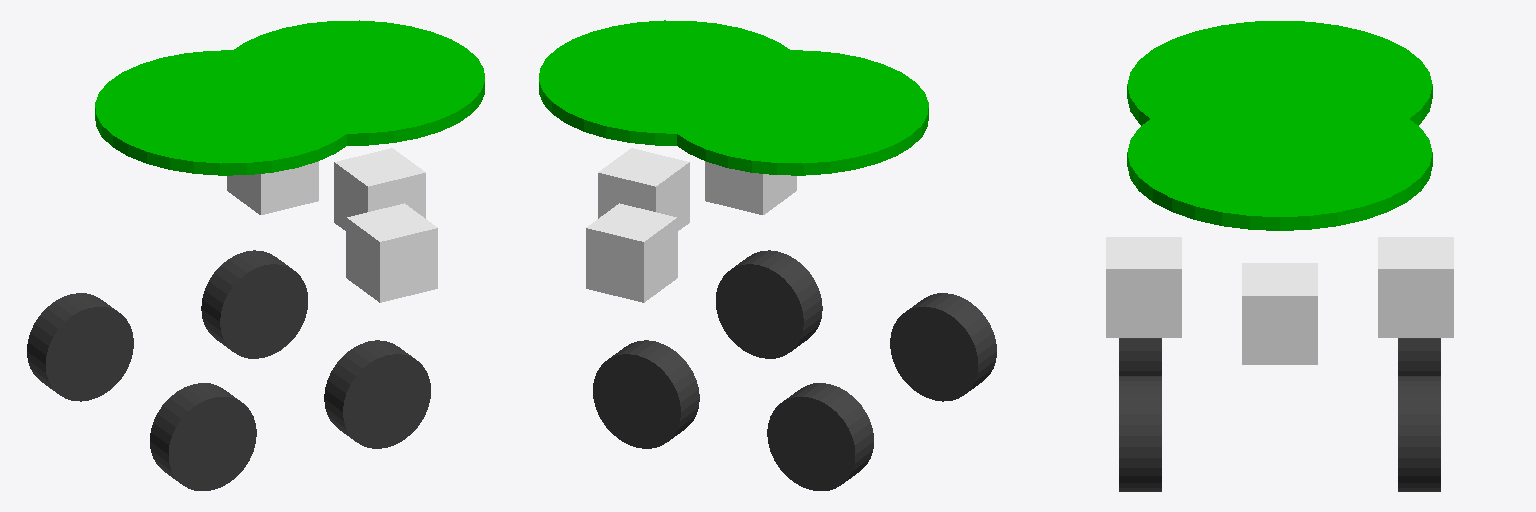
The robot description file, URDF, robot "multigo":
<?xml version="1.0" ?>
<robot name="multigo" xmlns:xacro="http://ros.org/wiki/xacro">

  <!-- Init colour -->
  <material name="black">
      <color rgba="0.0 0.0 0.0 1.0"/>
  </material>

  <material name="dark">
    <color rgba="0.3 0.3 0.3 1.0"/>
  </material>

  <material name="light_black">
    <color rgba="0.4 0.4 0.4 1.0"/>
  </material>

  <material name="blue">
    <color rgba="0.0 0.0 0.8 1.0"/>
  </material>

  <material name="green">
    <color rgba="0.0 0.8 0.0 1.0"/>
  </material>

  <material name="grey">
    <color rgba="0.5 0.5 0.5 1.0"/>
  </material>

  <material name="orange">
    <color rgba="1.0 0.4235 0.0392 1.0"/>
  </material>

  <material name="brown">
    <color rgba="0.8706 0.8118 0.7647 1.0"/>
  </material>

  <material name="red">
    <color rgba="0.8 0.0 0.0 1.0"/>
  </material>

  <material name="white">
    <color rgba="1.0 1.0 1.0 1.0"/>
  </material>

  <!-- Base Footprint -->
  <link name="base_footprint"/>

  <joint name="base_joint" type="fixed">
    <parent link="base_footprint"/>
    <child link="base_link" />
    <origin xyz="0 0 0.010" rpy="0 0 0"/>
  </joint>

  <!-- Base Link -->
  <link name="base_link">
    <inertial>
      <pose>0.000602 0 0.476823 0 -0 0</pose>
      <mass>50.435</mass>
      <inertia>
        <ixx>3.02781</ixx>
        <ixy>0</ixy>
        <ixz>-0.012125</ixz>
        <iyy>3.43197</iyy>
        <iyz>0</iyz>
        <izz>0.968001</izz>
      </inertia>
    </inertial>

    <collision name="base_collision">
      <pose>0.15 0 0.002 -0.0 -0.0 1.57</pose>
      <geometry>
        <mesh>
          <uri>model://multigo/meshes/multigo.stl</uri>
          <scale>0.001 0.001 0.001</scale>
        </mesh>
      </geometry>
    </collision>

    <visual name="base_visual">
      <pose>0.15 0 0.002 -0.0 -0.0 1.57</pose>
      <geometry>
        <mesh>
          <uri>model://multigo/meshes/multigo.stl</uri>
          <scale>0.001 0.001 0.001</scale>
        </mesh>
      </geometry>
      <material>
        <ambient>0.8392 0.6314 0 1</ambient>
        <diffuse>0.8392 0.6314 0 1</diffuse>
        <specular>0.99 0.99 0.99 1</specular>
        <emissive>0 0 0 0</emissive>
      </material>
    </visual>
  </link>

  <!-- Odometry Link -->
  <link name="odom"/>

  <!-- Fixed Joint from odom to base_footprint -->
  <joint name="odom_to_base" type="fixed">
    <parent link="odom"/>
    <child link="base_footprint"/>
    <origin xyz="0 0 0" rpy="0 0 0"/>
  </joint>


  <!-- Front Left Wheel -->
  <joint name="front_left_wheel_joint" type="revolute">
    <parent link="base_link"/>
    <child link="front_left_wheel_link"/>
    <origin xyz="0.15 0.183 0.076" rpy="0 0 0"/>
    <axis xyz="0 1 0"/>
    <limit lower="-1e+16" upper="1e+16" effort="100" velocity="100"/>
    <dynamics damping="0.0" friction="0.0"/>
  </joint>

  <link name="front_left_wheel_link">
    <visual>
      <origin xyz="0 0 0" rpy="1.5708 0 0"/>
      <geometry>
        <cylinder length="0.056" radius="0.076"/>
      </geometry>
      <material name="dark"/>
    </visual>

    <collision>
      <origin xyz="0 0 0" rpy="1.5708 0 0"/>
      <geometry>
        <cylinder length="0.056" radius="0.076"/>
      </geometry>
    </collision>

    <inertial>
      <origin xyz="0 0 0" rpy="0 0 0"/>
      <mass value="0.6"/>
      <inertia ixx="0.00138624" ixy="0" ixz="0" iyy="0.00138624" iyz="0" izz="0.00138624"/>
    </inertial>
  </link>

  <!-- Front Right Wheel -->
  <joint name="front_right_wheel_joint" type="revolute">
    <parent link="base_link"/>
    <child link="front_right_wheel_link"/>
    <origin xyz="0.15 -0.183 0.076" rpy="0 0 0"/>
    <axis xyz="0 1 0"/>
    <limit lower="-1e+16" upper="1e+16" effort="100" velocity="100"/>
    <dynamics damping="0.0" friction="0.0"/>
  </joint>

  <link name="front_right_wheel_link">
    <visual>
      <origin xyz="0 0 0" rpy="1.5708 0 0"/>
      <geometry>
        <cylinder length="0.056" radius="0.076"/>
      </geometry>
      <material name="dark"/>
    </visual>

    <collision>
      <origin xyz="0 0 0" rpy="1.5708 0 0"/>
      <geometry>
        <cylinder length="0.056" radius="0.076"/>
      </geometry>
    </collision>

    <inertial>
      <origin xyz="0 0 0" rpy="0 0 0"/>
      <mass value="0.6"/>
      <inertia ixx="0.00138624" ixy="0" ixz="0" iyy="0.00138624" iyz="0" izz="0.00138624"/>
    </inertial>
  </link>

  <!-- Rear Left Wheel -->
  <joint name="rear_left_wheel_joint" type="revolute">
    <parent link="base_link"/>
    <child link="rear_left_wheel_link"/>
    <origin xyz="-0.15 0.183 0.076" rpy="0 0 0"/>
    <axis xyz="0 1 0"/>
    <limit lower="-1e+16" upper="1e+16" effort="100" velocity="100"/>
    <dynamics damping="0.0" friction="0.0"/>
  </joint>

  <link name="rear_left_wheel_link">
    <visual>
      <origin xyz="0 0 0" rpy="1.5708 0 0"/>
      <geometry>
        <cylinder length="0.056" radius="0.076"/>
      </geometry>
      <material name="dark"/>
    </visual>

    <collision>
      <origin xyz="0 0 0" rpy="1.5708 0 0"/>
      <geometry>
        <cylinder length="0.056" radius="0.076"/>
      </geometry>
    </collision>

    <inertial>
      <origin xyz="0 0 0" rpy="0 0 0"/>
      <mass value="0.6"/>
      <inertia ixx="0.00138624" ixy="0" ixz="0" iyy="0.00138624" iyz="0" izz="0.00138624"/>
    </inertial>
  </link>

  <!-- Rear Right Wheel -->
  <joint name="rear_right_wheel_joint" type="revolute">
    <parent link="base_link"/>
    <child link="rear_right_wheel_link"/>
    <origin xyz="-0.15 -0.183 0.076" rpy="0 0 0"/>
    <axis xyz="0 1 0"/>
    <limit lower="-1e+16" upper="1e+16" effort="100" velocity="100"/>
    <dynamics damping="0.0" friction="0.0"/>
  </joint>

  <link name="rear_right_wheel_link">
    <visual>
      <origin xyz="0 0 0" rpy="1.5708 0 0"/>
      <geometry>
        <cylinder length="0.056" radius="0.076"/>
      </geometry>
      <material name="dark"/>
    </visual>

    <collision>
      <origin xyz="0 0 0" rpy="1.5708 0 0"/>
      <geometry>
        <cylinder length="0.056" radius="0.076"/>
      </geometry>
    </collision>

    <inertial>
      <origin xyz="0 0 0" rpy="0 0 0"/>
      <mass value="0.6"/>
      <inertia ixx="0.00138624" ixy="0" ixz="0" iyy="0.00138624" iyz="0" izz="0.00138624"/>
    </inertial>
  </link>

  <!-- LIDAR Joint -->
  <joint name="scan_joint" type="fixed">
    <parent link="base_link"/>
    <child link="base_scan"/>
    <origin xyz="0.21 0 0.5" rpy="0 0 0"/>
  </joint>

  <link name="base_scan">
    <visual>
      <origin xyz="0 0 0" rpy="0 0 0"/>
      <geometry>
        <cylinder length="0.02" radius="0.2"/>
      </geometry>
      <material name="green"/>
    </visual>

    <collision>
      <origin xyz="0 0 0" rpy="0 0 0"/>
      <geometry>
        <cylinder length="0.02" radius="0.2"/>
      </geometry>
    </collision>

    <inertial>
      <origin xyz="0 0 0" rpy="0 0 0"/>
      <mass value="0.5"/>
      <inertia ixx="0.005" ixy="0" ixz="0" iyy="0.005" iyz="0" izz="0.005"/>
    </inertial>
  </link>

  <joint name="imu_joint" type="fixed">
    <parent link="base_link"/>
    <child link="imu_link"/>
    <origin xyz="0.0 0 0.5" rpy="0 0 0"/>
  </joint>

  <link name="imu_link">
    <visual>
      <origin xyz="0 0 0" rpy="0 0 0"/>
      <geometry>
        <cylinder length="0.02" radius="0.2"/>
      </geometry>
      <material name="green"/>
    </visual>

    <collision>
      <origin xyz="0 0 0" rpy="0 0 0"/>
      <geometry>
        <cylinder length="0.02" radius="0.2"/>
      </geometry>
    </collision>

    <inertial>
      <origin xyz="0 0 0" rpy="0 0 0"/>
      <mass value="0.5"/>
      <inertia ixx="0.005" ixy="0" ixz="0" iyy="0.005" iyz="0" izz="0.005"/>
    </inertial>
  </link>

  <!-- Camera Joint -->
  <joint name="camera_joint" type="fixed">
    <parent link="base_link"/>
    <child link="camera_link"/>
    <origin xyz="0.26 0.0 0.30" rpy="0 0 0"/>
  </joint>

  <link name="camera_link">
    <visual>
      <origin xyz="0 0 0" rpy="0 0 0"/>
      <geometry>
        <box size="0.1 0.1 0.1"/>
      </geometry>
      <material name="white"/>
    </visual>

    <collision>
      <origin xyz="0 0 0" rpy="0 0 0"/>
      <geometry>
        <box size="0.1 0.1 0.1"/>
      </geometry>
    </collision>

    <inertial>
      <origin xyz="0 0 0" rpy="0 0 0"/>
      <mass value="0.5"/>
      <inertia ixx="0.005" ixy="0" ixz="0" iyy="0.005" iyz="0" izz="0.005"/>
    </inertial>
  </link>

   <!-- Front Left Camera -->
  <joint name="camera_front_left_joint" type="fixed">
    <parent link="camera_link"/>
    <child link="camera_front_left_frame"/>
    <origin xyz="-0.082 0.178 0.0" rpy="0 0 0"/>
  </joint>

  <link name="camera_front_left_frame">
    <visual>
      <origin xyz="0 0 0" rpy="0 0 0"/>
      <geometry>
        <box size="0.1 0.1 0.1"/>
      </geometry>
      <material name="white"/>
    </visual>

    <collision>
      <origin xyz="0 0 0" rpy="0 0 0"/>
      <geometry>
        <box size="0.1 0.1 0.1"/>
      </geometry>
    </collision>

    <inertial>
      <origin xyz="0 0 0" rpy="0 0 0"/>
      <mass value="0.5"/>
      <inertia ixx="0.005" ixy="0" ixz="0" iyy="0.005" iyz="0" izz="0.005"/>
    </inertial>
  </link>

  <!-- Front Right Camera -->
  <joint name="camera_front_right_joint" type="fixed">
    <parent link="camera_link"/>
    <child link="camera_front_right_frame"/>
    <origin xyz="-0.082 -0.178 0.0" rpy="0 0 0"/>
  </joint>

  <link name="camera_front_right_frame">
    <visual>
      <origin xyz="0 0 0" rpy="0 0 0"/>
      <geometry>
        <box size="0.1 0.1 0.1"/>
      </geometry>
      <material name="white"/>
    </visual>

    <collision>
      <origin xyz="0 0 0" rpy="0 0 0"/>
      <geometry>
        <box size="0.1 0.1 0.1"/>
      </geometry>
    </collision>

    <inertial>
      <origin xyz="0 0 0" rpy="0 0 0"/>
      <mass value="0.5"/>
      <inertia ixx="0.005" ixy="0" ixz="0" iyy="0.005" iyz="0" izz="0.005"/>
    </inertial>
  </link>

</robot>

--- What the picture shows (computed from the rendered views, not written in the file) ---
Views: 3 orthographic renders of the robot side by side, from view 1: azimuth 30°, elevation 25°; view 2: azimuth 150°, elevation 25°; view 3: azimuth 270°, elevation 25°.
Robot: multigo — 12 links, 11 joints (4 revolute, 7 fixed); root link odom; default pose: every joint at zero.
Visible links, largest first — view 1: base_scan, imu_link, rear_left_wheel_link, front_left_wheel_link, front_right_wheel_link, rear_right_wheel_link, camera_front_right_frame, camera_link, camera_front_left_frame; view 2: base_scan, imu_link, rear_right_wheel_link, front_right_wheel_link, front_left_wheel_link, rear_left_wheel_link, camera_front_left_frame, camera_link, camera_front_right_frame; view 3: imu_link, base_scan, camera_link, camera_front_left_frame, camera_front_right_frame, front_left_wheel_link, front_right_wheel_link, rear_left_wheel_link, rear_right_wheel_link.
Boxes of the visible links, x1,y1,x2,y2 form: base_scan: (217, 20, 484, 145); imu_link: (95, 50, 356, 175); rear_left_wheel_link: (27, 293, 133, 401); front_left_wheel_link: (201, 250, 307, 358); front_right_wheel_link: (324, 340, 430, 448); rear_right_wheel_link: (150, 383, 256, 490); camera_front_right_frame: (346, 203, 437, 302); camera_link: (334, 148, 425, 230); camera_front_left_frame: (227, 161, 318, 214); base_scan: (539, 20, 805, 145); imu_link: (662, 50, 928, 175); rear_right_wheel_link: (890, 293, 996, 401); front_right_wheel_link: (716, 250, 822, 358); front_left_wheel_link: (593, 340, 699, 448); rear_left_wheel_link: (767, 383, 873, 490); camera_front_left_frame: (586, 203, 677, 302); camera_link: (598, 148, 689, 230); camera_front_right_frame: (705, 161, 796, 214); imu_link: (1127, 21, 1432, 148); base_scan: (1127, 88, 1432, 230); camera_link: (1242, 263, 1317, 364); camera_front_left_frame: (1378, 237, 1453, 337); camera_front_right_frame: (1106, 237, 1181, 337); front_left_wheel_link: (1398, 376, 1440, 491); front_right_wheel_link: (1119, 376, 1161, 491); rear_left_wheel_link: (1398, 338, 1440, 375); rear_right_wheel_link: (1119, 338, 1161, 375).
Size in the robot's own frame: 0.636 by 0.456 by 0.51 metres.
Geometry: primitives only (box / cylinder / sphere), no mesh files.